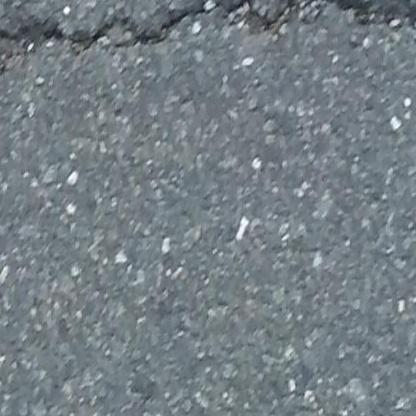Cracks: (0, 0, 416, 59)
